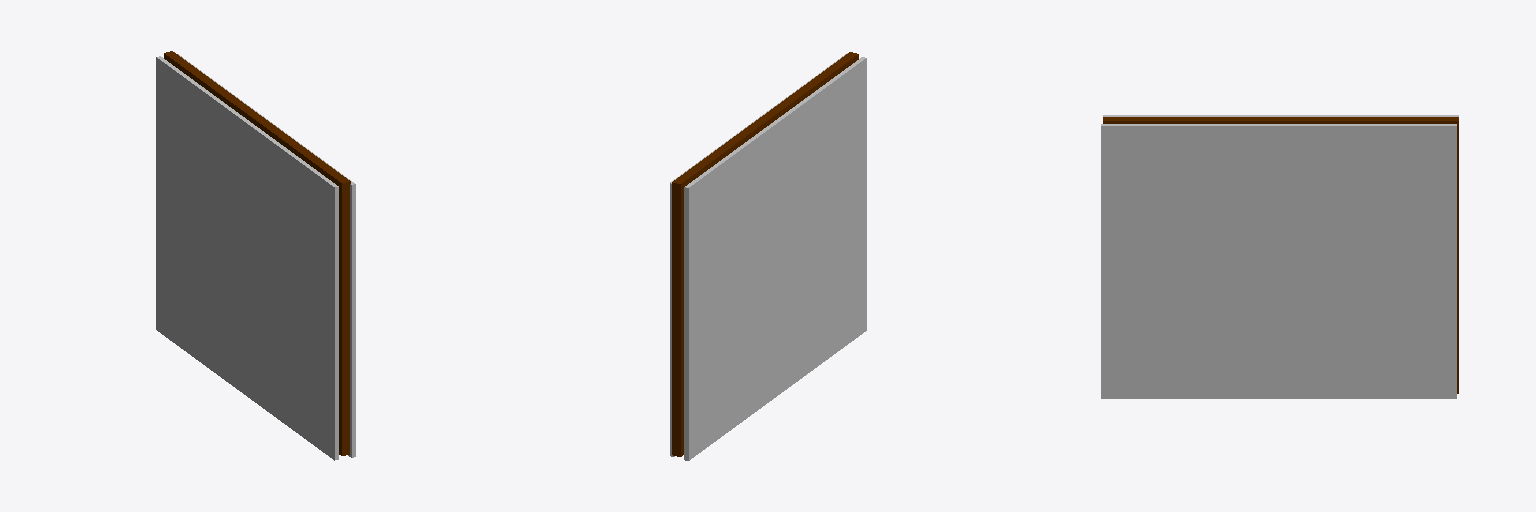
The model's file is divider.obj.
3 views of the same model, side by side, from view 1: azimuth 30°, elevation 25°; view 2: azimuth 150°, elevation 25°; view 3: azimuth 270°, elevation 25° (orthographic).
Visible parts, largest first — view 1: Cube.002_, Cube.002_NORMAL; view 2: Cube.002_, Cube.002_NORMAL; view 3: Cube.002_, Cube.002_NORMAL.
Boxes of the visible parts, <box> form: Cube.002_: <box>156,54,355,460</box>; Cube.002_NORMAL: <box>164,51,350,455</box>; Cube.002_: <box>670,53,866,460</box>; Cube.002_NORMAL: <box>672,52,858,456</box>; Cube.002_: <box>1101,115,1458,398</box>; Cube.002_NORMAL: <box>1103,117,1458,393</box>.
Size of the model in its own units: 0.3932 by 5.16 by 6.08.